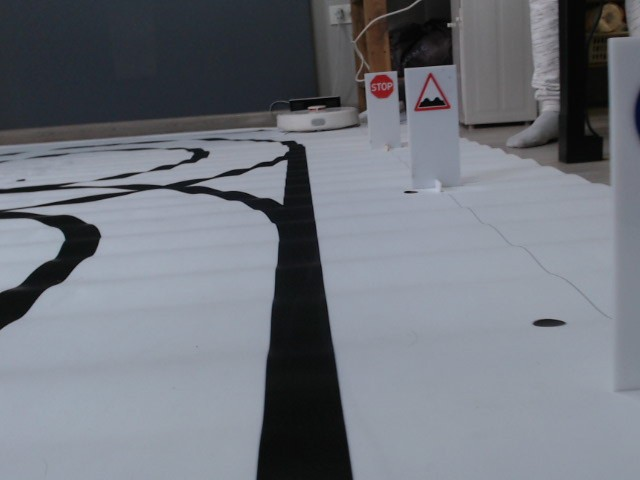Nerov: (413, 71, 452, 111)
